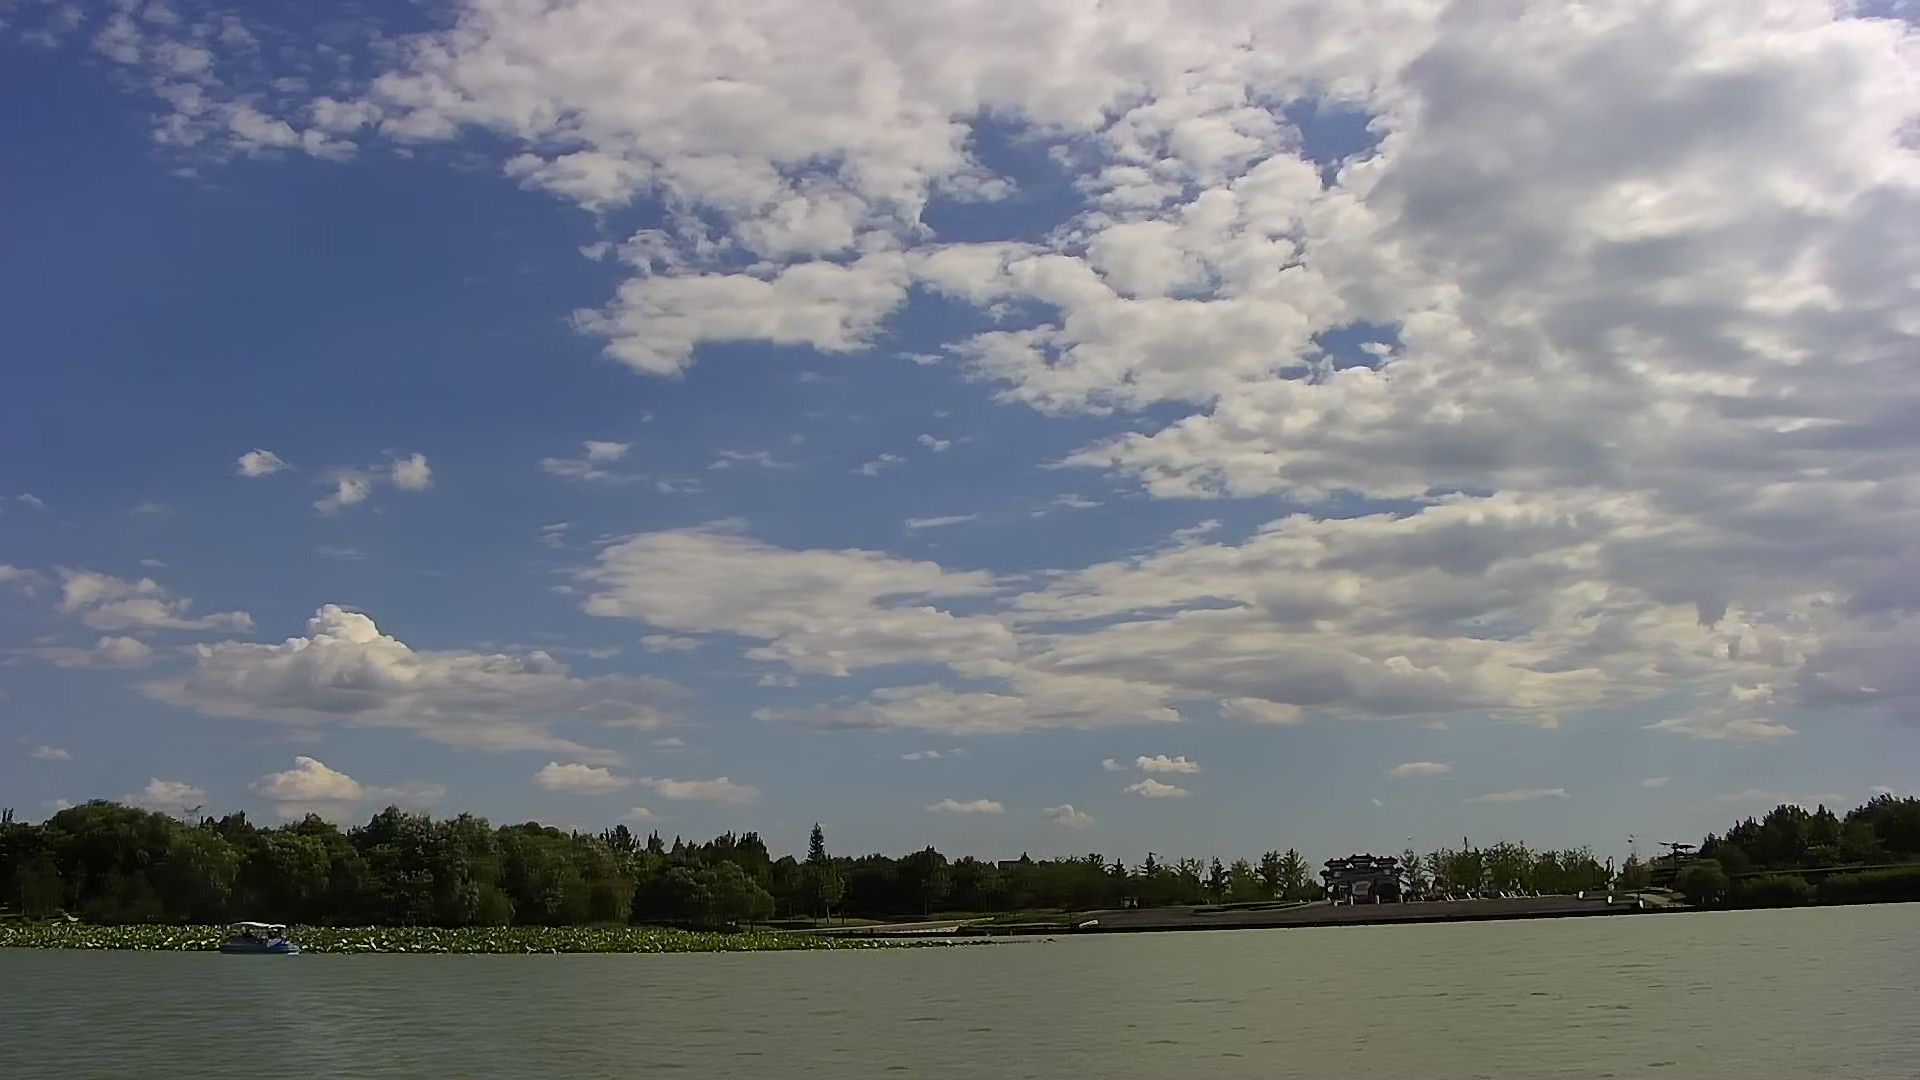boat: (215, 918, 305, 959)
harbor: (1025, 891, 1688, 927)
